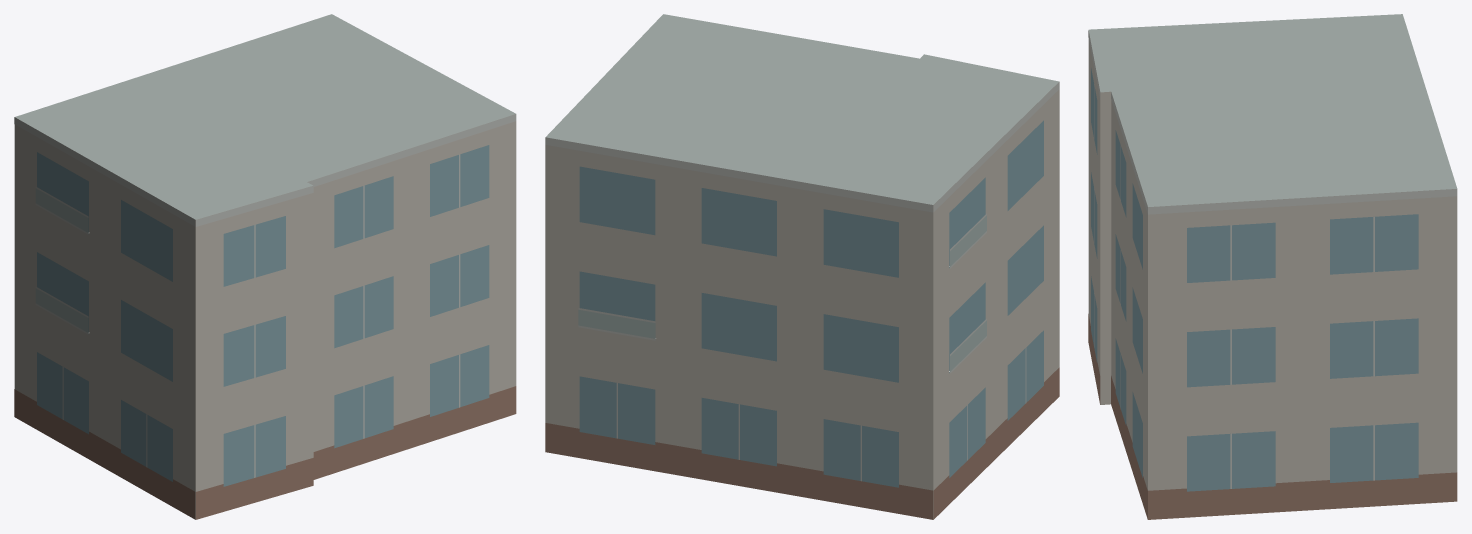
File: survey-upis-32745594.glb
3 views of the same model, side by side, from view 1: azimuth 30°, elevation 25°; view 2: azimuth 150°, elevation 25°; view 3: azimuth 270°, elevation 25° (orthographic). The views are drawn at different scales.
Visible parts, largest first — view 1: survey-upis-32745594.tmp; view 2: survey-upis-32745594.tmp; view 3: survey-upis-32745594.tmp.
Boxes of the visible parts, x1=… form: survey-upis-32745594.tmp: x1=14, y1=14, x2=516, y2=519; survey-upis-32745594.tmp: x1=545, y1=14, x2=1059, y2=519; survey-upis-32745594.tmp: x1=1088, y1=14, x2=1457, y2=519.
Size of the model in its own units: 13.52 by 10.2 by 10.91.
